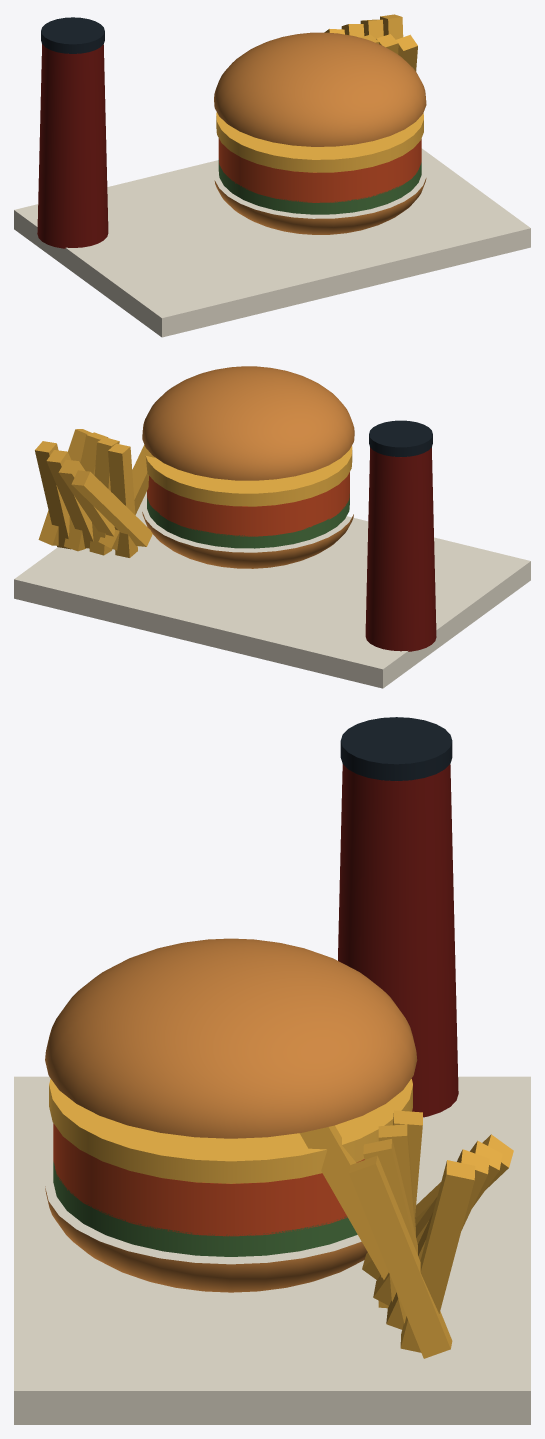
File: campaign-6.glb
3 renders of one model, top to bottom at view 1: azimuth 30°, elevation 25°; view 2: azimuth 150°, elevation 25°; view 3: azimuth 270°, elevation 25°, orthographic. The views are drawn at different scales.
Size of the model in its own units: 0.37 by 0.2065 by 0.25.
